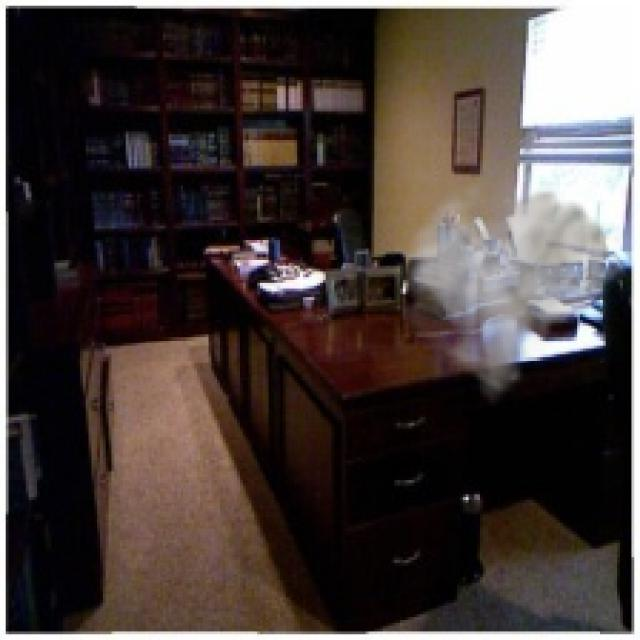smoke: (394, 168, 629, 408)
